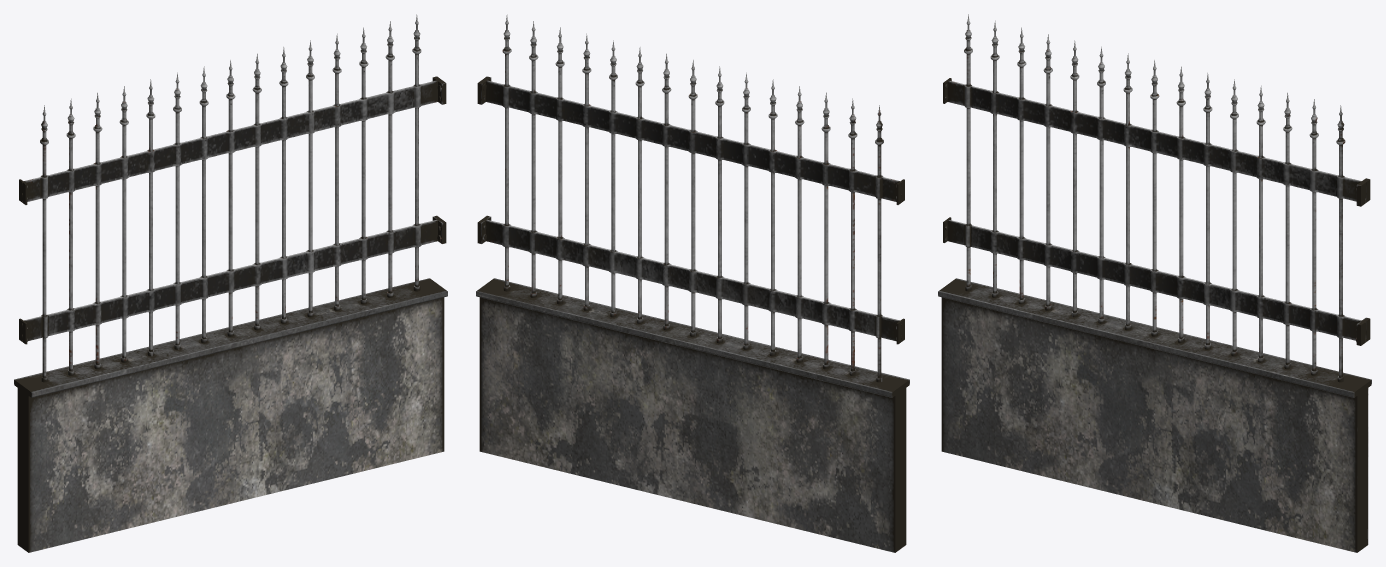
File: Fence.obj
The picture shows the model from 3 angles, left to right: view 1: azimuth 30°, elevation 25°; view 2: azimuth 150°, elevation 25°; view 3: azimuth 330°, elevation 25°; orthographic projection.
Parts seen in each view (by area): view 1: 01_2; view 2: 01_2; view 3: 01_2.
Boxes of the visible parts, x1,y1,x2,y2 form: 01_2: [14, 14, 447, 552]; 01_2: [476, 14, 909, 552]; 01_2: [938, 14, 1371, 552].
Bounding box in the file's own units: 4 × 4 × 0.3.
Materials: 1 (1 with a texture image).
